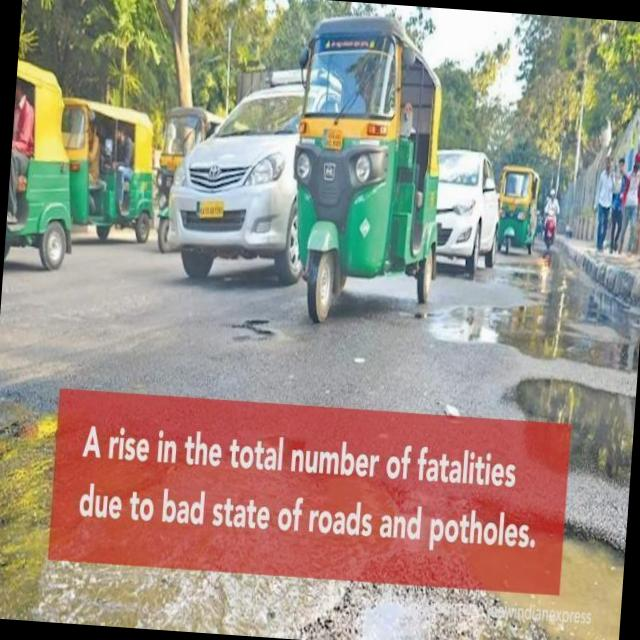Pathole: (351, 501, 622, 640), (419, 247, 640, 370), (512, 376, 635, 488), (224, 318, 274, 345)
